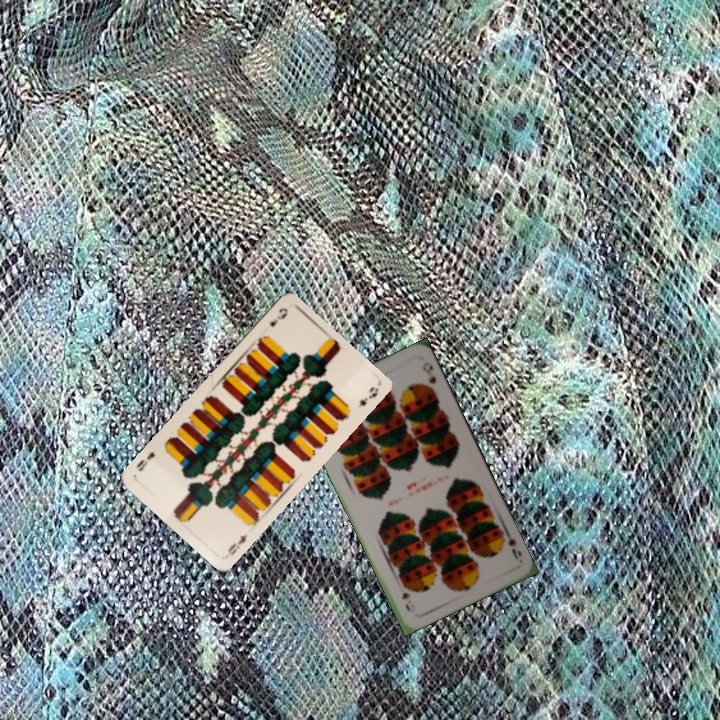E9: (222, 530, 250, 559), (265, 303, 290, 330)
S9: (496, 525, 524, 562)
